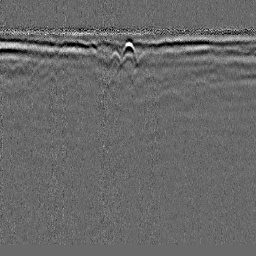cavity: (120, 40, 137, 58)
